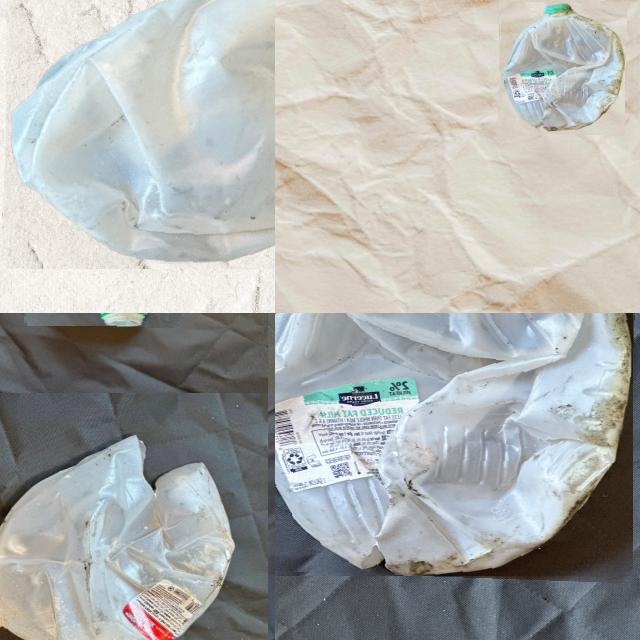milk-jug: (275, 313, 636, 578), (2, 0, 275, 272), (0, 436, 238, 640), (497, 0, 626, 134)
